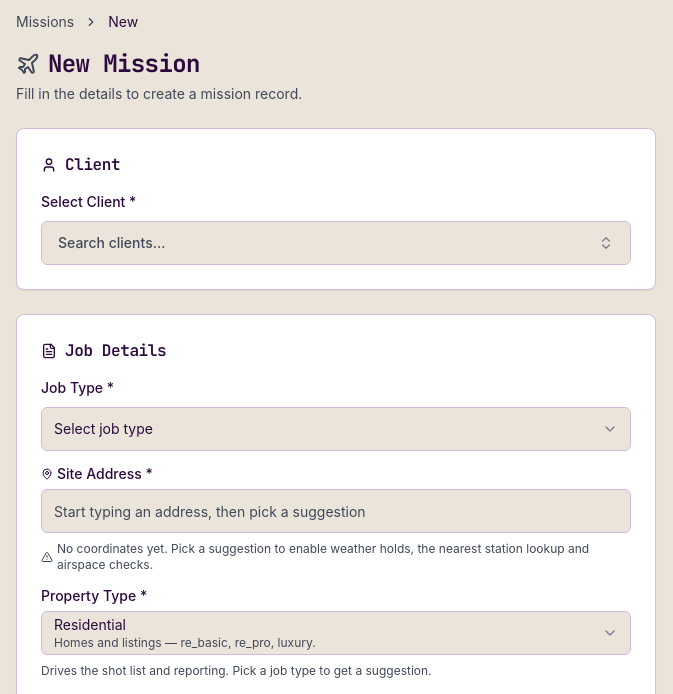
JobIntake — slice 5 fields › defaults property_type from the chosen job type instead of silently filing everything residential
Press Enter in the dropdown labelled "Select job type", box left=41, top=407, right=631, bottom=451
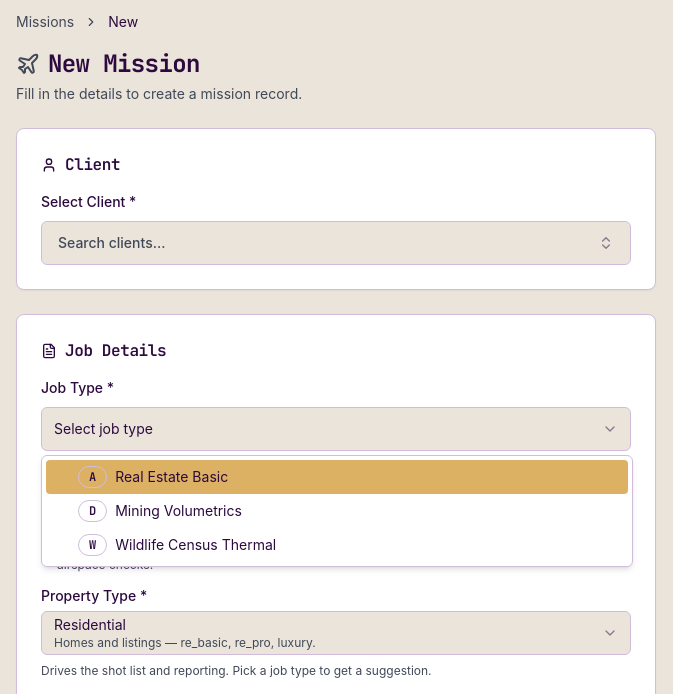
Click the option "D Mining Volumetrics".
click(160, 511)  # box left=78, top=500, right=242, bottom=522
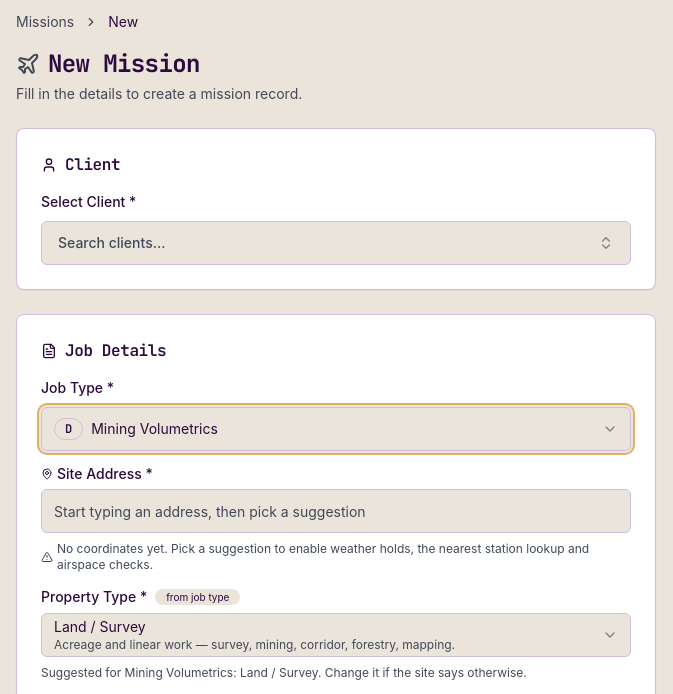
Result: the text "Land / Survey" is shown at left=54, top=618, right=146, bottom=635
